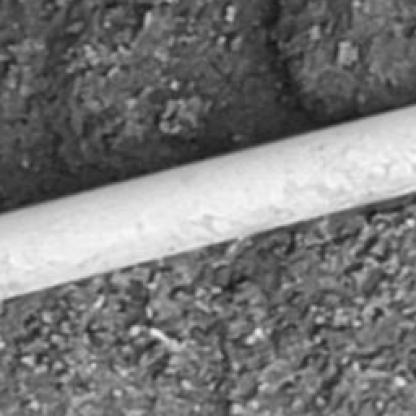PVC: (1, 102, 414, 300)
